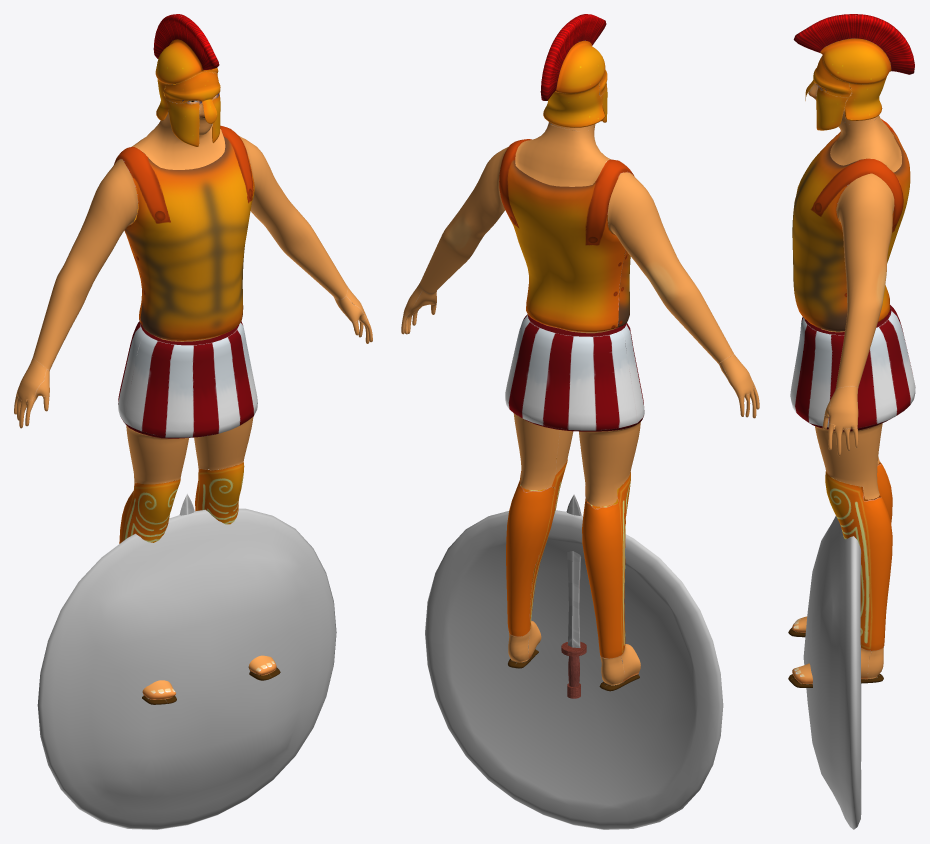
The model's file is Labrynth Greek Hero export file.fbx.
3 renders of one model, left to right at view 1: azimuth 30°, elevation 25°; view 2: azimuth 150°, elevation 25°; view 3: azimuth 270°, elevation 25°, orthographic.
Parts seen in each view (by area): view 1: Shield, Lower body half.002; view 2: Lower body half.002, Shield, Short Sword; view 3: Lower body half.002, Shield.
Boxes of the visible parts, x1,y1,x2,y2 form: Shield: (37,508,336,829); Lower body half.002: (14,14,372,704); Lower body half.002: (401,14,759,691); Shield: (425,510,723,829); Short Sword: (561,494,586,698); Lower body half.002: (788,14,915,687); Shield: (803,516,861,829).
Size of the model in its own units: 106 by 234 by 33.78.
